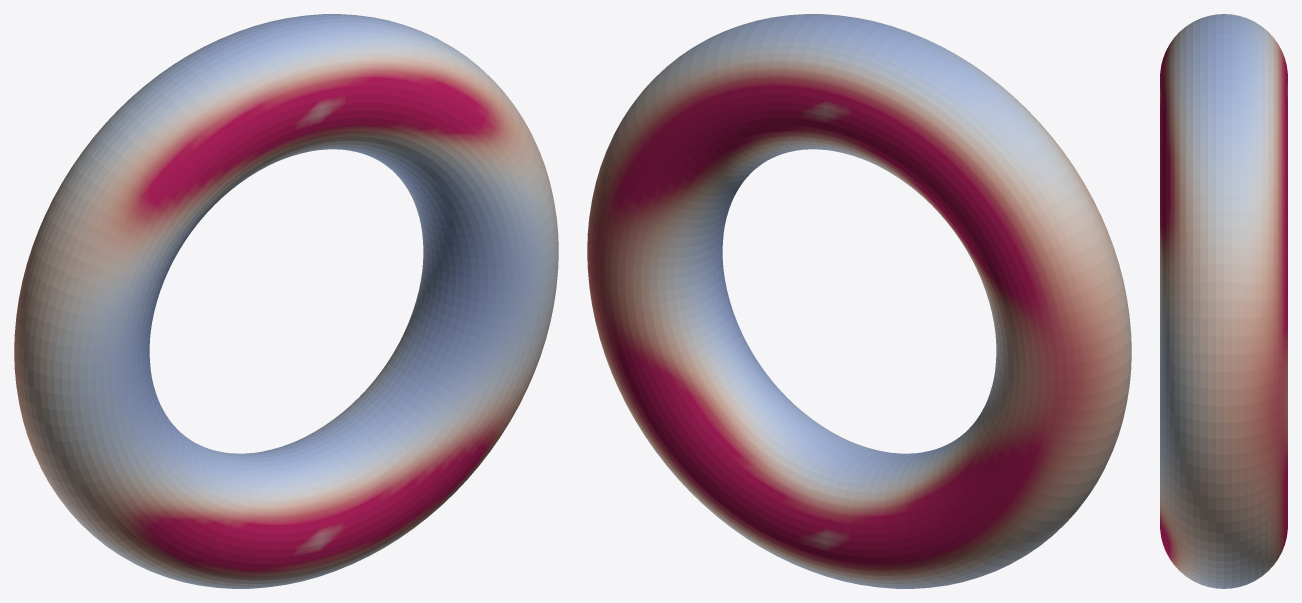
3 views of the same model, side by side, from view 1: azimuth 30°, elevation 25°; view 2: azimuth 150°, elevation 25°; view 3: azimuth 270°, elevation 25° (orthographic). The views are drawn at different scales.
Visible parts, largest first — view 1: world; view 2: world; view 3: world.
Part boxes in pixels (x1=…): world: x1=14, y1=14, x2=558, y2=588; world: x1=587, y1=14, x2=1131, y2=588; world: x1=1160, y1=14, x2=1287, y2=588.
Bounding box in the file's own units: 25.73 × 25.73 × 5.72.
